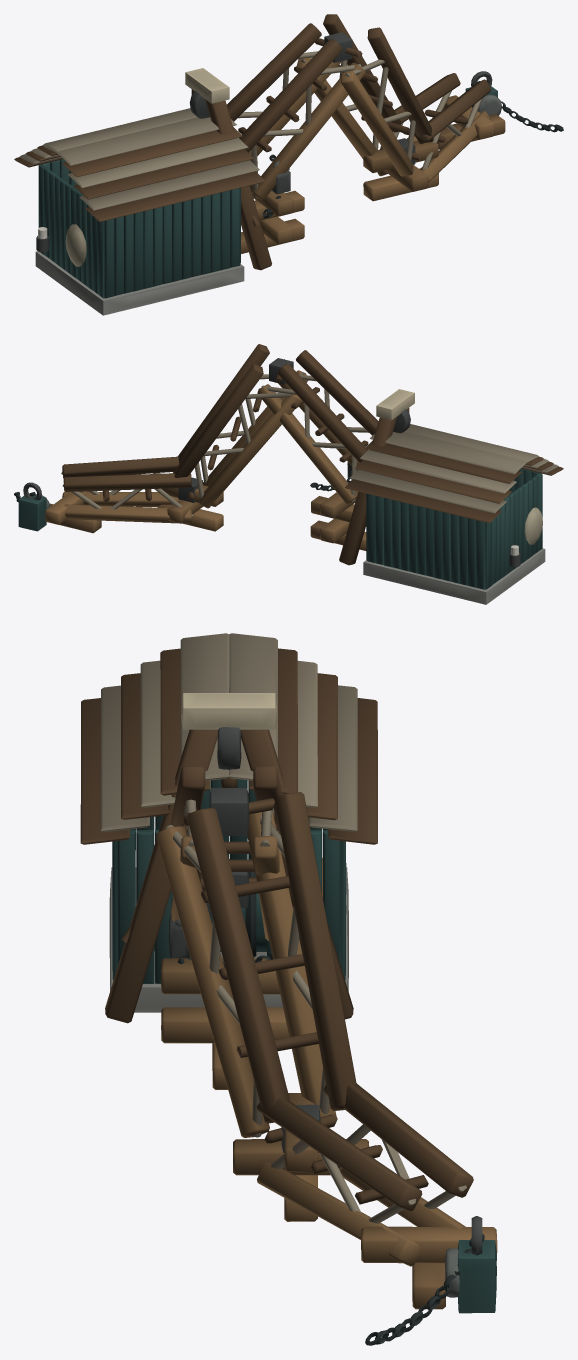
File: boom_crane_wreck_a_lod1.glb
The picture shows the model from 3 angles, top to bottom: view 1: azimuth 30°, elevation 25°; view 2: azimuth 150°, elevation 25°; view 3: azimuth 270°, elevation 25°; orthographic projection. The views are drawn at different scales.
Visible parts, largest first — view 1: Surface.001; view 2: Surface.001; view 3: Surface.001.
Boxes of the visible parts, x1=… form: Surface.001: x1=14, y1=14, x2=563, y2=315; Surface.001: x1=14, y1=344, x2=563, y2=604; Surface.001: x1=80, y1=633, x2=497, y2=1345.
Size of the model in its own units: 13.93 by 4.76 by 5.21.
